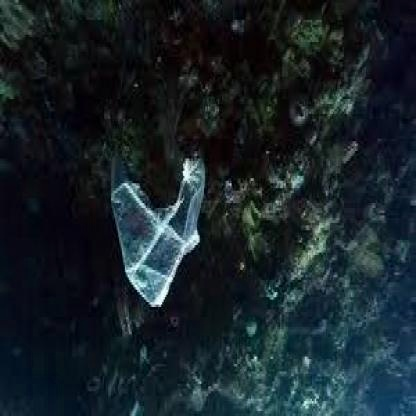pbag: (111, 151, 207, 310)
